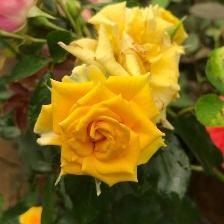rose: (40, 70, 166, 191), (81, 9, 185, 98)
